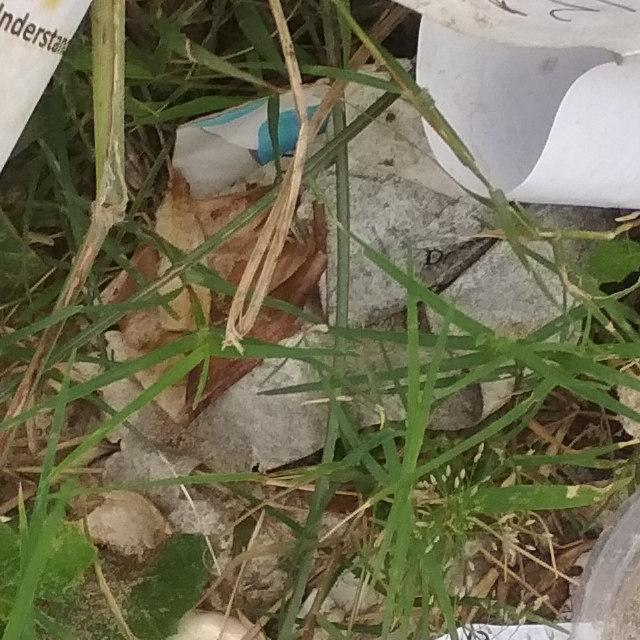paper: (0, 0, 417, 640), (300, 0, 640, 371)
